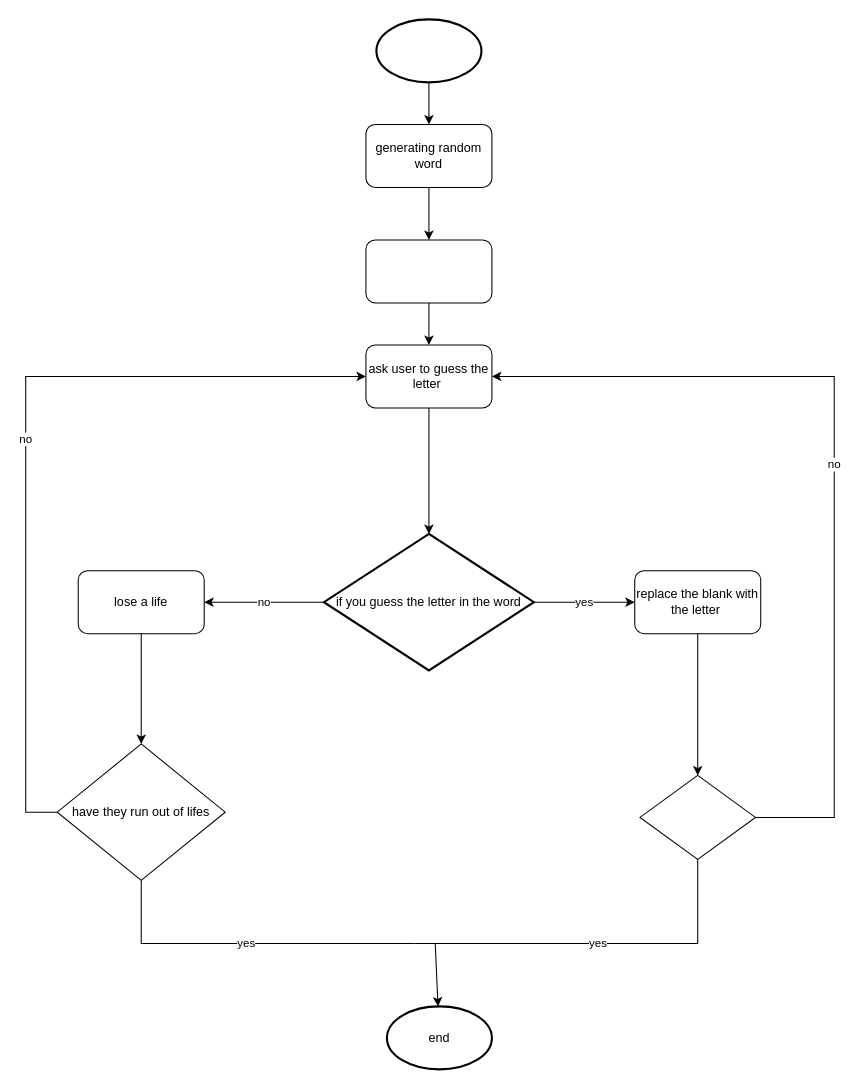
Some shapes in this 861 by 1088 pixel diagram are drawn without their labels. Here are the shapes that lost their labels. From the top down, the box of each, then its label:
(375, 18, 482, 83): start
(365, 239, 492, 303): generating spaces for each letter in word
(639, 774, 755, 859): are all blank filled
